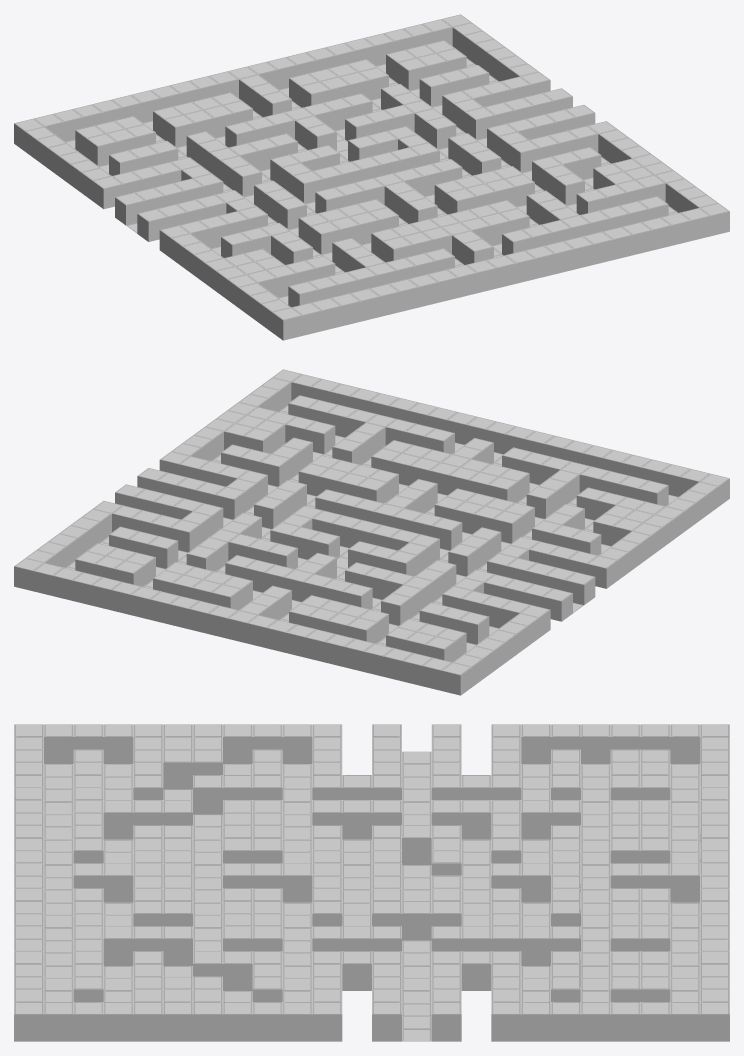
Rendered from level02.FBX.
3 renders of one model, top to bottom at view 1: azimuth 30°, elevation 25°; view 2: azimuth 150°, elevation 25°; view 3: azimuth 270°, elevation 25°, orthographic. The views are drawn at different scales.
Visible parts, largest first — view 1: Object009; view 2: Object009; view 3: Object009.
Part boxes in pixels (bbox=[...]): Object009: bbox=[14, 14, 729, 340]; Object009: bbox=[14, 369, 729, 695]; Object009: bbox=[14, 724, 729, 1041].
Bounding box in the file's own units: 23 × 24 × 1.
1 material, 1 textured.
